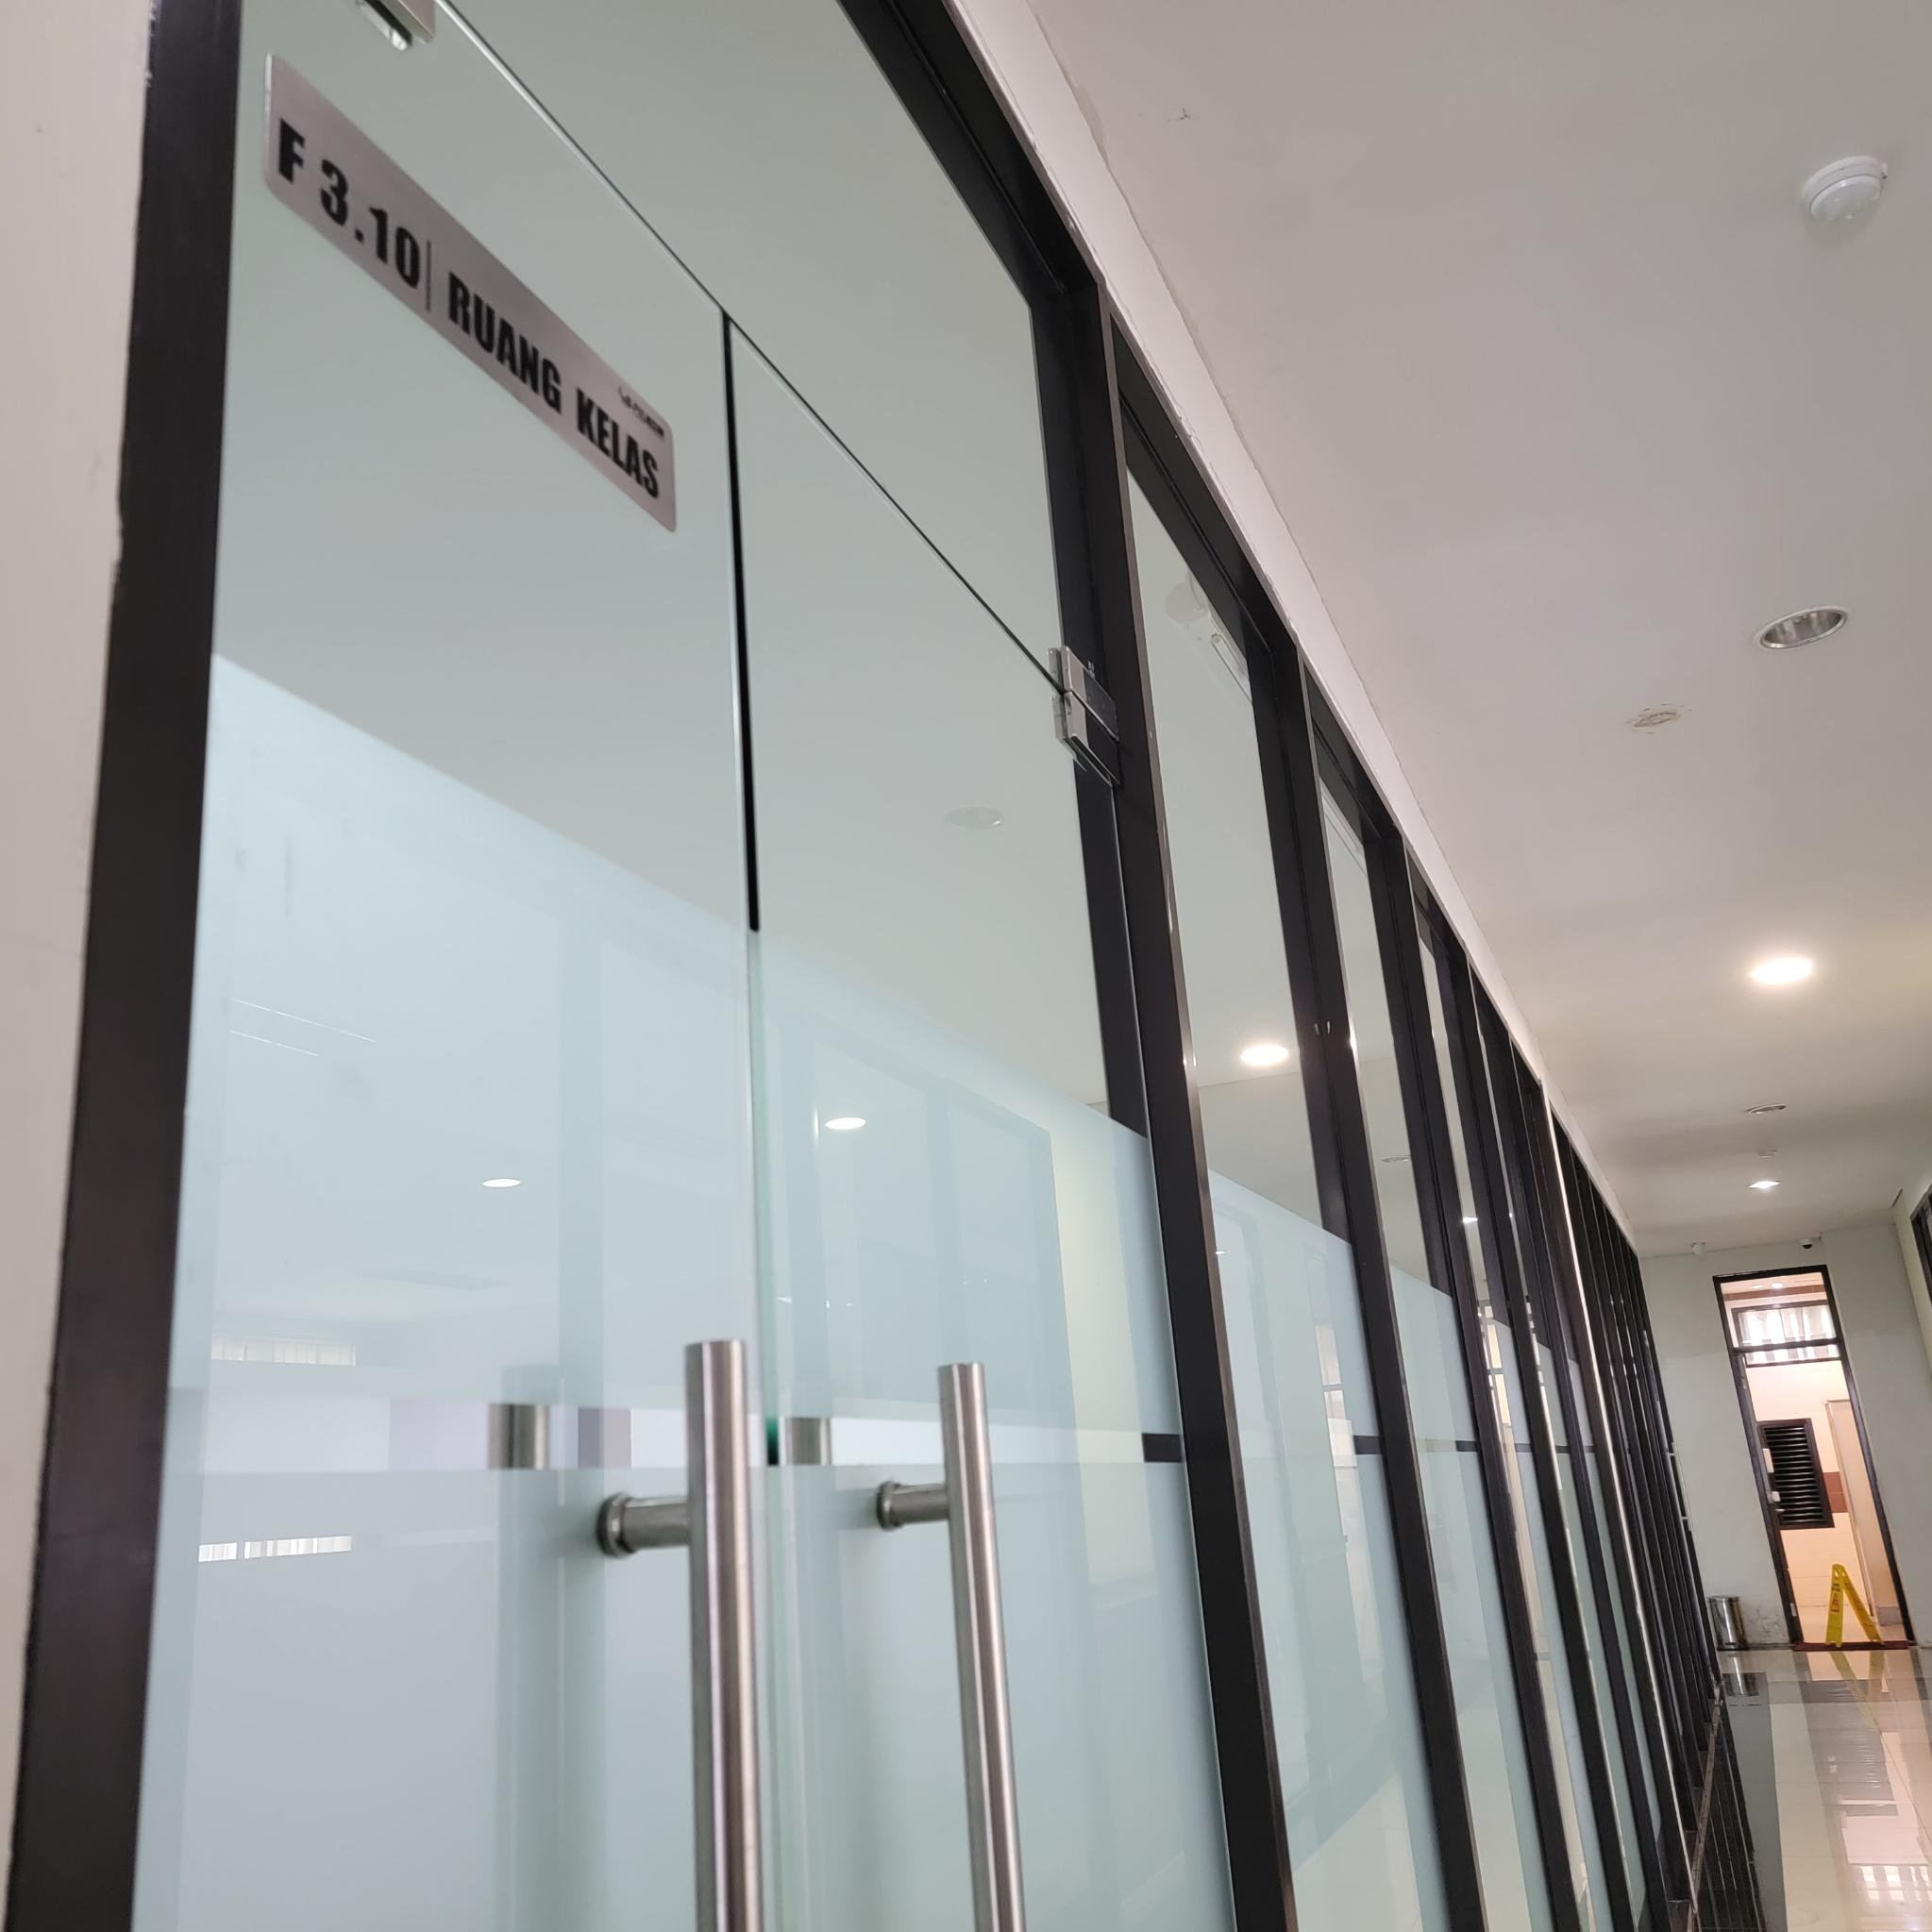plate: (262, 50, 676, 538)
